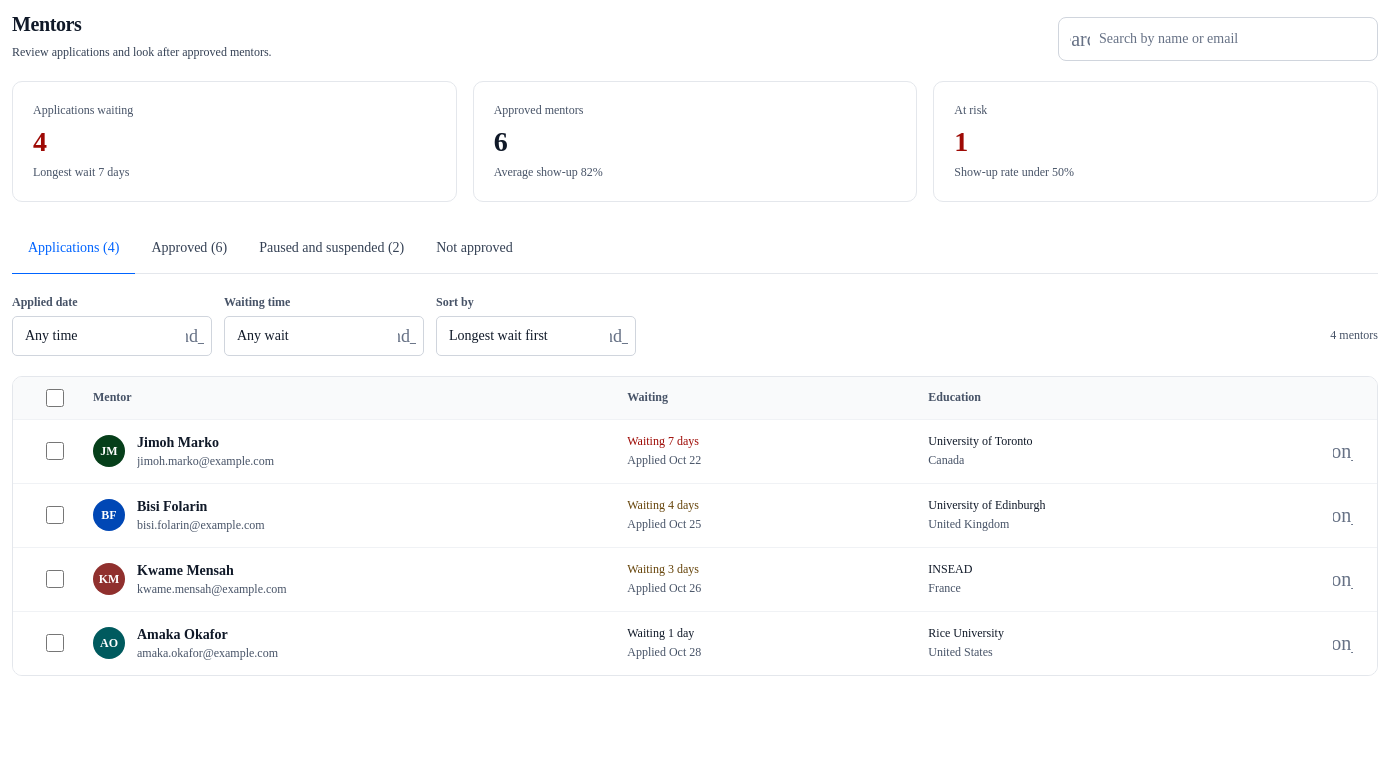
AdminMentorsScreen: the list › search matches name or email within the tab, with its own no-match
expect the button with aria-label "Open Jimoh Marko" is shown: met, box [137,432,274,453]
Type "kwame." into the search field named "Search mentors" at (1218, 39), box [1058,17,1378,61]
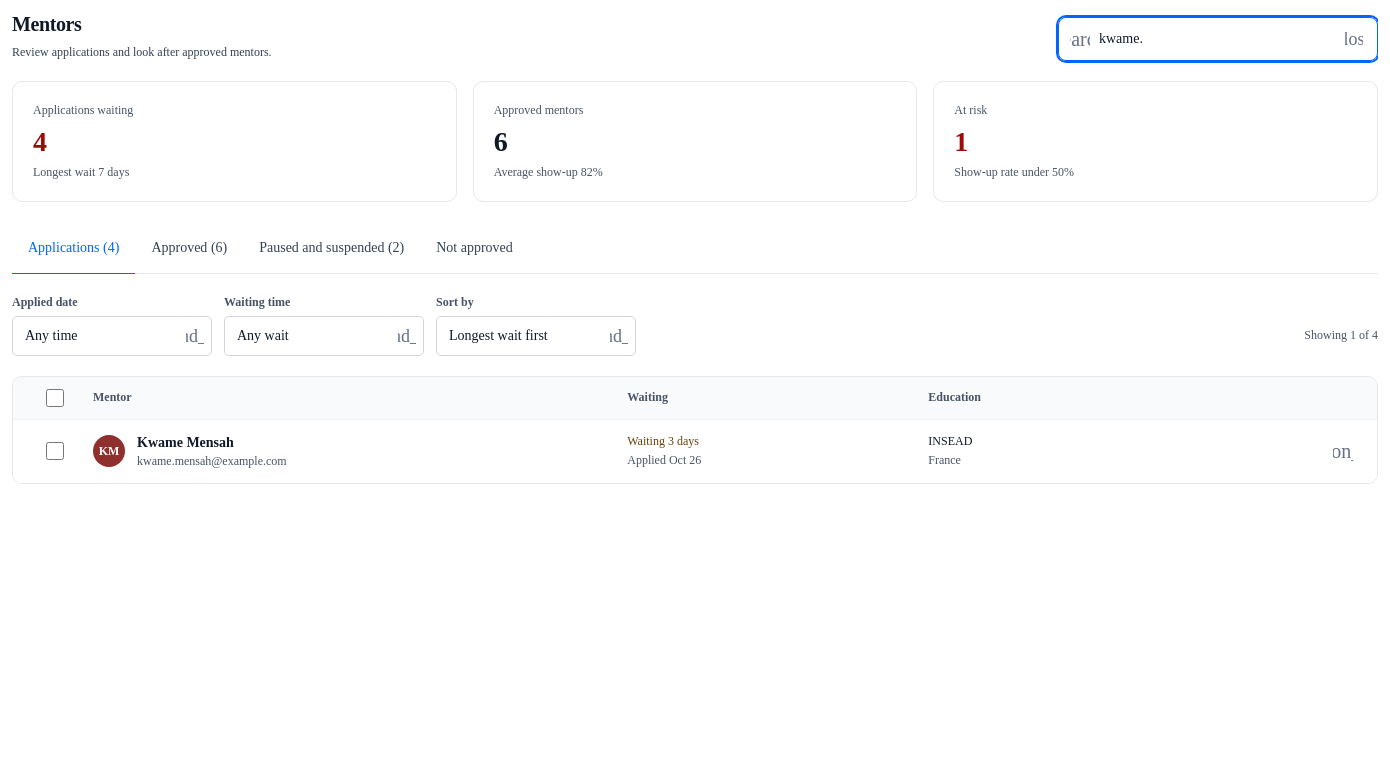
Type "zzz" into the search field named "Search mentors" at (1218, 39), box [1058,17,1378,61]
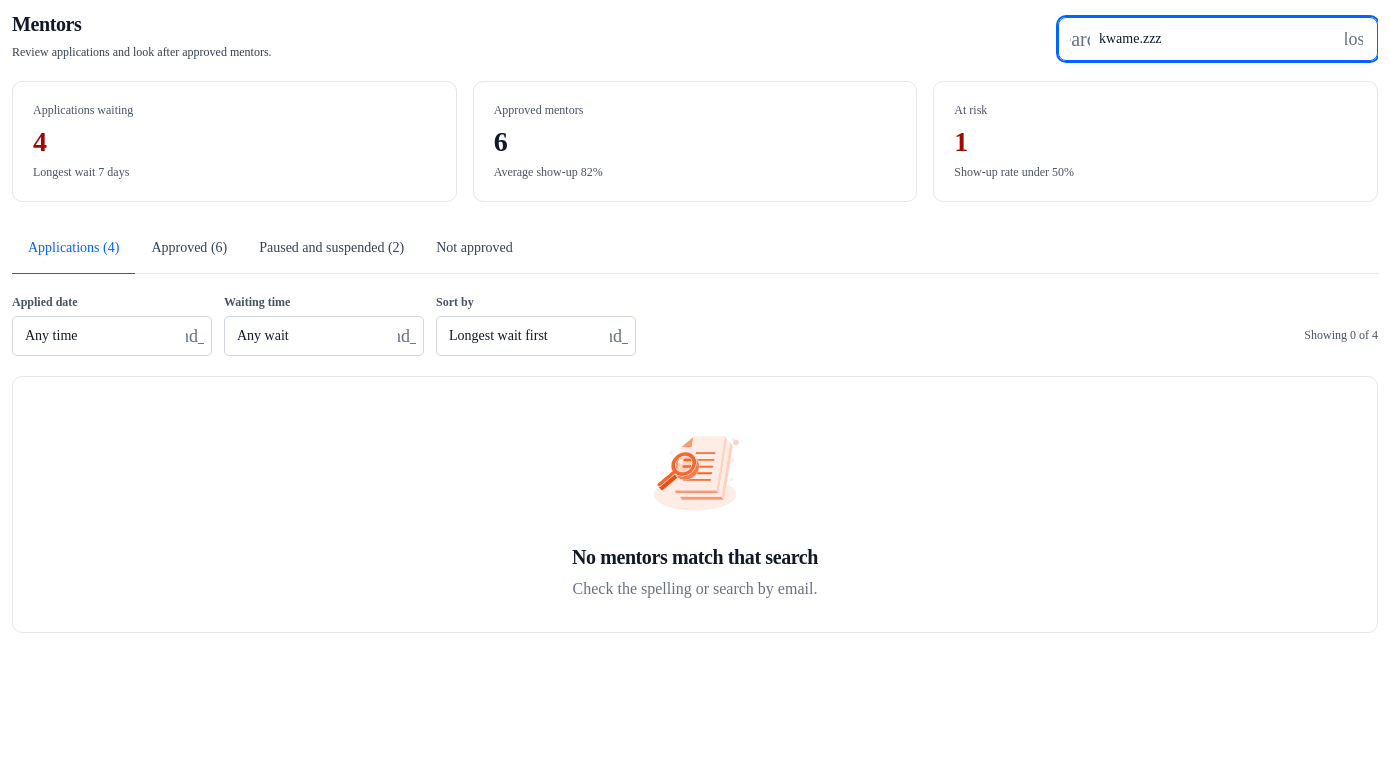
expect the heading "No mentors match that search" is shown: met, box [572,545,818,569]
